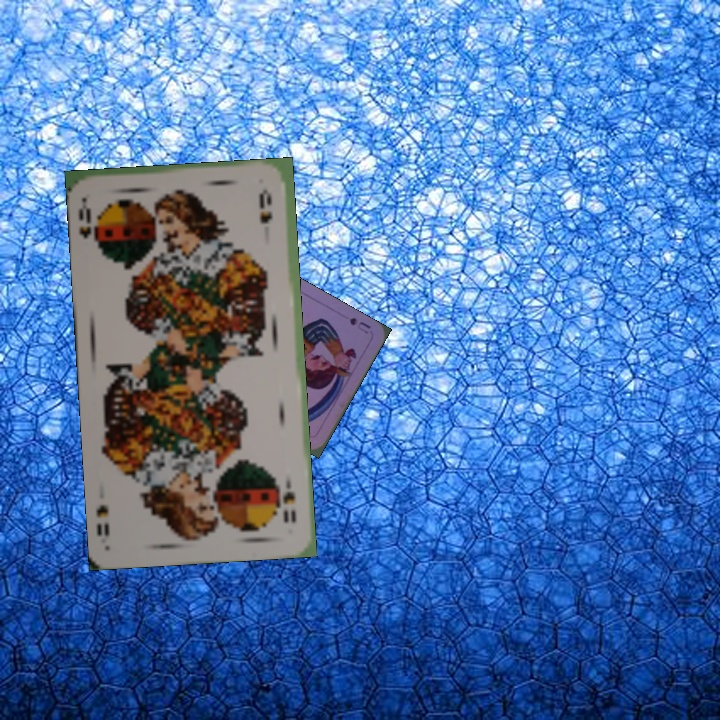SO: (74, 195, 103, 253), (279, 475, 299, 526)
SU: (345, 313, 373, 336)
